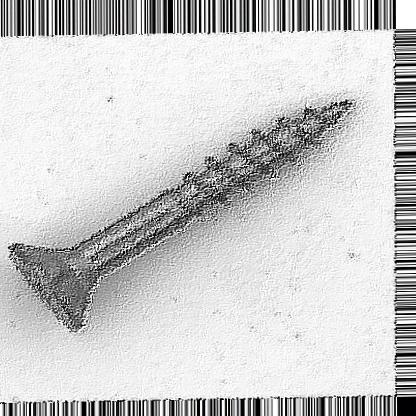metal: (7, 96, 355, 333)
